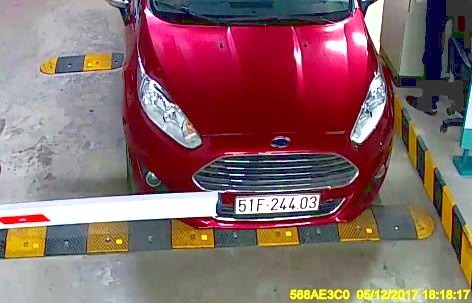plate: (230, 190, 325, 215)
